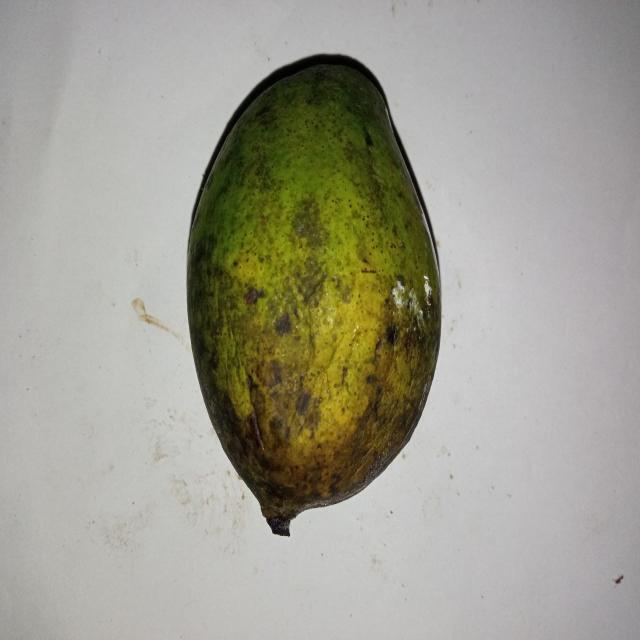rotten_mango: (182, 53, 444, 537)
